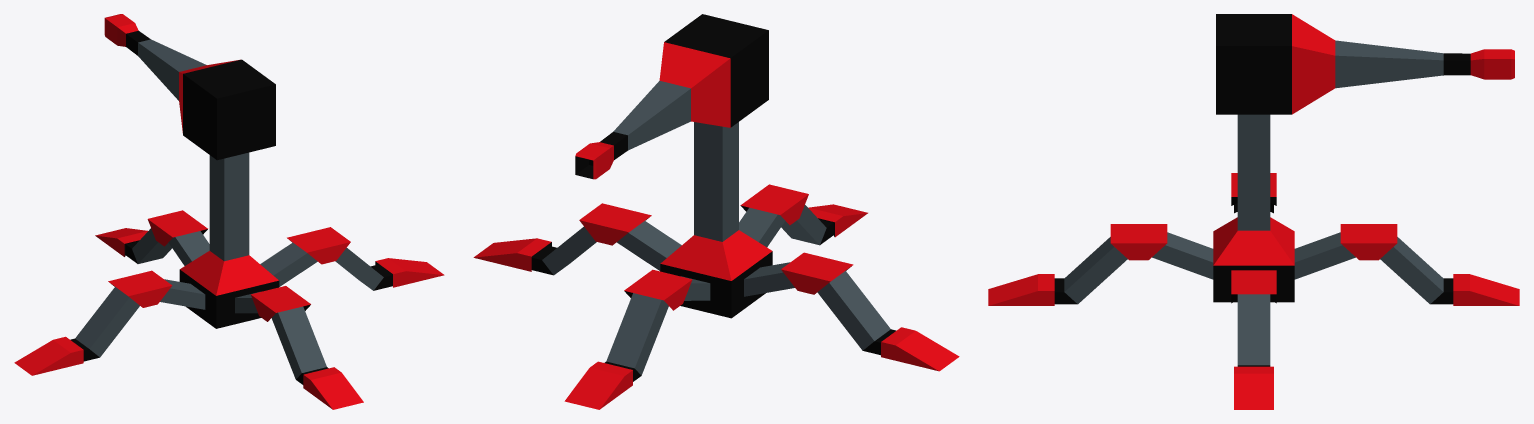
The model's file is Turret.fbx.
The picture shows the model from 3 angles, left to right: view 1: azimuth 30°, elevation 25°; view 2: azimuth 150°, elevation 25°; view 3: azimuth 270°, elevation 25°; orthographic projection. The views are drawn at different scales.
Visible parts, largest first — view 1: Body, Head; view 2: Body, Head; view 3: Body, Head.
Part boxes in pixels (x1,y1,x2,y2): Body: (14, 152, 444, 409); Head: (104, 14, 275, 160); Body: (473, 122, 959, 409); Head: (575, 14, 768, 179); Body: (988, 114, 1519, 409); Head: (1216, 14, 1514, 114).
Bounding box in the file's own units: 393 × 218 × 393.
